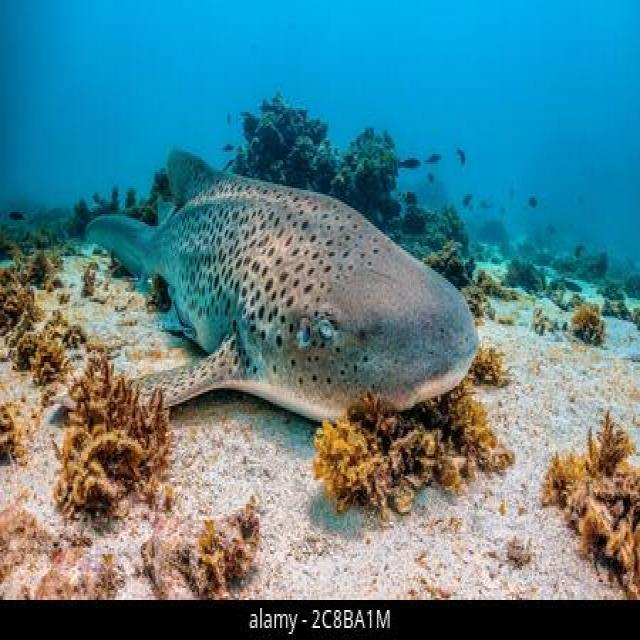Shark: (77, 100, 490, 434)
